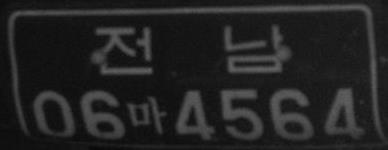0: (32, 90, 75, 138)
4: (322, 86, 365, 141), (173, 89, 215, 139)
5: (220, 88, 263, 140)
6: (268, 87, 316, 141), (79, 88, 125, 141)
마: (127, 95, 166, 134)
전남_D: (95, 21, 284, 76)
